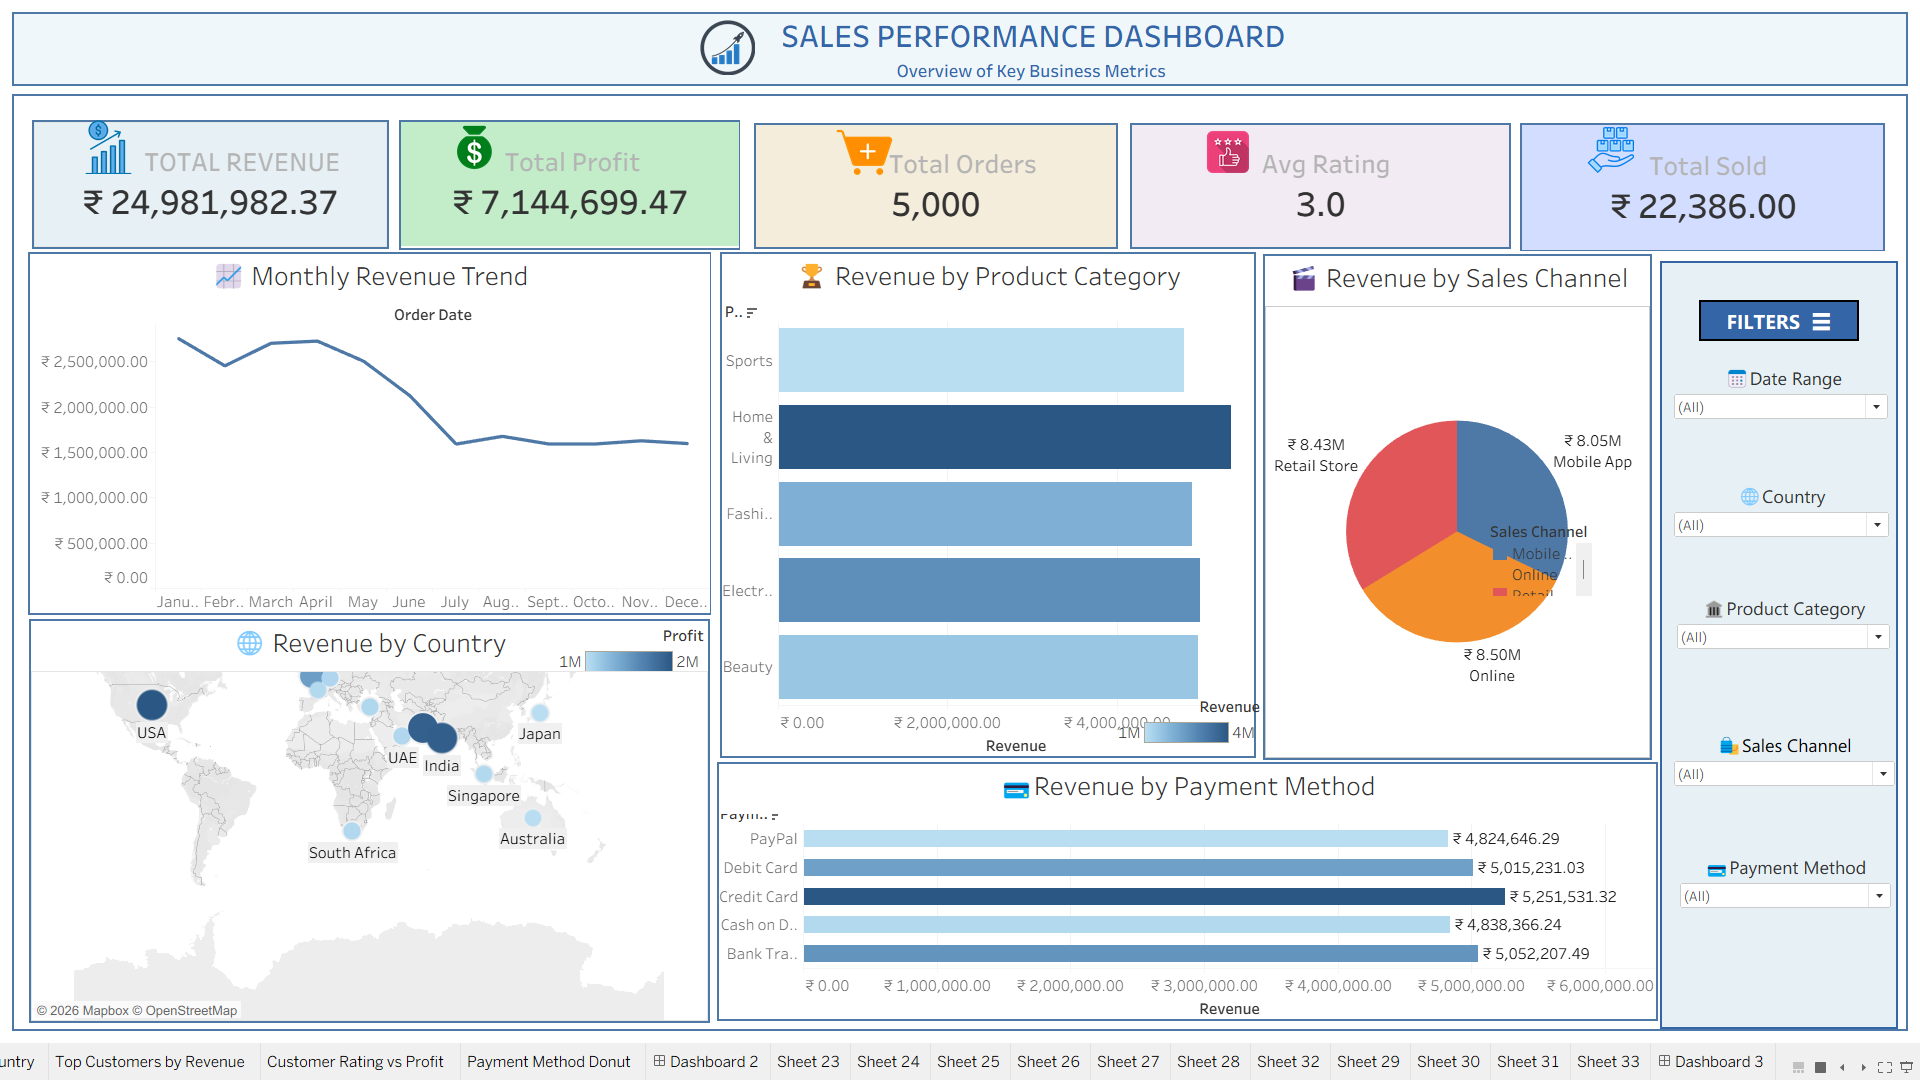

Layout of this report page (visuals, bound fields, positions):
{"tool":"tableau","page":{"name":"Dashboard 1 ","canvas":[1000,1000],"units":"permille","ordinal":0},"visuals":[{"type":"title","box":[4.8,9.4,990.3,96.4]},{"type":"image","param":"Image/Dashboard logo.png","box":[364.5,18.8,44.7,52.9]},{"type":"blank","box":[4.8,105.8,990.3,884.8]},{"type":"image","param":"Image/Total orders.png","box":[418.2,111.6,54.3,69.3]},{"type":"worksheet","title":"KPI - Total Revenue","mark":"Automatic","box":[16.9,115.2,185.9,123.4]},{"type":"image","param":"Image/8520869.png","box":[27.8,115.2,57.9,51.7]},{"type":"worksheet","title":"KPI - Total Profit","mark":"Automatic","box":[207.6,115.2,178,124.6]},{"type":"image","param":"Image/Tota; profit.png","box":[234.8,117.5,24.1,45.8]},{"type":"worksheet","title":"KPI - Total Orders","mark":"Automatic","box":[392.9,117.5,189.5,121]},{"type":"worksheet","title":"KPI - Avg Customer Rating","mark":"Automatic","box":[588.4,117.5,198.6,121]},{"type":"worksheet","title":"KPI - Total Quantity Sold","mark":"Automatic","box":[791.8,117.5,190.1,123.4]},{"type":"image","param":"Image/Total Sold.png","box":[823.2,121,35.6,44.6]},{"type":"image","param":"Image/Avarage rating.png","box":[620.4,124.6,38.6,41.1]},{"type":"worksheet","title":"Monthly Revenue Trend","mark":"Line","rows":["Revenue"],"cols":["Order_Date"],"box":[14.5,242.1,356.1,347.8]},{"type":"worksheet","title":"Revenue by Product Category","mark":"Automatic","rows":["Product_Category"],"cols":["Revenue"],"box":[374.8,242.1,279.4,485.3]},{"type":"worksheet","title":"Sales Channel Analysis","mark":"Pie","rows":["Calculation_1544843691028483","Calculation_1544843691028483"],"box":[657.8,243.2,202.8,485.3]},{"type":"text","box":[882.3,284.4,88.7,71.7]},{"type":"filter","title":"Monthly Revenue Trend","param":"[federated.0mwebx31yv44sr15h69f60pn67w9].[mn:Order_Date:ok]","box":[870.2,351.4,114.7,91.7]},{"type":"filter","title":"Revenue by Country","param":"[federated.0mwebx31yv44sr15h69f60pn67w9].[none:Country:nk]","box":[870.2,464.2,115.3,70.5]},{"type":"legend","title":"Sales Channel Analysis","param":"[federated.0mwebx31yv44sr15h69f60pn67w9].[none:Sales_Channel:nk]","box":[776.1,499.4,54.3,71.7]},{"type":"filter","title":"Revenue by Product Category","param":"[federated.0mwebx31yv44sr15h69f60pn67w9].[none:Product_Category:nk]","box":[872.1,571.1,114.1,74]},{"type":"worksheet","title":"Revenue by Country","mark":"Automatic","box":[15.1,593.4,354.9,387.8]},{"type":"legend","title":"Revenue by Product Category","param":"[federated.0mwebx31yv44sr15h69f60pn67w9].[sum:Profit:qk]","box":[289.1,599.3,77.9,47]},{"type":"legend","title":"Revenue by Country","param":"[federated.0mwebx31yv44sr15h69f60pn67w9].[sum:Revenue:qk]","box":[580,667.5,76,49.4]},{"type":"filter","title":"Sales Channel Analysis","param":"[federated.0mwebx31yv44sr15h69f60pn67w9].[none:Sales_Channel:nk]","box":[870.2,702.7,118.3,112.8]},{"type":"worksheet","title":"Revenue by Payment Method","mark":"Automatic","rows":["Payment_Method"],"cols":["Revenue"],"box":[373.6,730.9,490,247.9]},{"type":"filter","title":"Revenue by Payment Method","param":"[federated.0mwebx31yv44sr15h69f60pn67w9].[none:Payment_Method:nk]","box":[873.3,820.2,112.9,130.4]}]}

Visuals, with their boxes on the dashboard's canvas, which has no fixed pixel size, in thousandths of its width and height (x1, y1, x2, y2). These are canvas units, not pixel positions in the 1920x1080 screenshot, which may show the page scaled, cropped or inside an application window:
title: [x1=5, y1=9, x2=995, y2=106]
image: [x1=364, y1=19, x2=409, y2=72]
blank: [x1=5, y1=106, x2=995, y2=991]
image: [x1=418, y1=112, x2=472, y2=181]
"KPI - Total Revenue" worksheet: [x1=17, y1=115, x2=203, y2=239]
image: [x1=28, y1=115, x2=86, y2=167]
"KPI - Total Profit" worksheet: [x1=208, y1=115, x2=386, y2=240]
image: [x1=235, y1=118, x2=259, y2=163]
"KPI - Total Orders" worksheet: [x1=393, y1=118, x2=582, y2=238]
"KPI - Avg Customer Rating" worksheet: [x1=588, y1=118, x2=787, y2=238]
"KPI - Total Quantity Sold" worksheet: [x1=792, y1=118, x2=982, y2=241]
image: [x1=823, y1=121, x2=859, y2=166]
image: [x1=620, y1=125, x2=659, y2=166]
"Monthly Revenue Trend" worksheet (Line marks): [x1=14, y1=242, x2=371, y2=590]
"Revenue by Product Category" worksheet: [x1=375, y1=242, x2=654, y2=727]
"Sales Channel Analysis" worksheet (Pie marks): [x1=658, y1=243, x2=861, y2=728]
text: [x1=882, y1=284, x2=971, y2=356]
"Monthly Revenue Trend" filter: [x1=870, y1=351, x2=985, y2=443]
"Revenue by Country" filter: [x1=870, y1=464, x2=986, y2=535]
"Sales Channel Analysis" legend: [x1=776, y1=499, x2=830, y2=571]
"Revenue by Product Category" filter: [x1=872, y1=571, x2=986, y2=645]
"Revenue by Country" worksheet: [x1=15, y1=593, x2=370, y2=981]
"Revenue by Product Category" legend: [x1=289, y1=599, x2=367, y2=646]
"Revenue by Country" legend: [x1=580, y1=668, x2=656, y2=717]
"Sales Channel Analysis" filter: [x1=870, y1=703, x2=988, y2=816]
"Revenue by Payment Method" worksheet: [x1=374, y1=731, x2=864, y2=979]
"Revenue by Payment Method" filter: [x1=873, y1=820, x2=986, y2=951]
